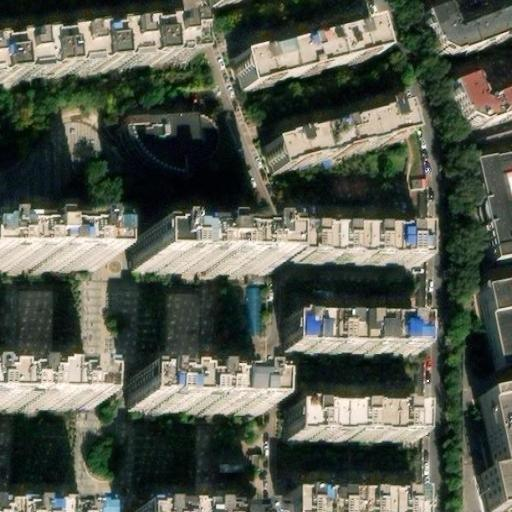building: (0, 24, 191, 82), (228, 15, 378, 88), (261, 102, 403, 172), (115, 107, 211, 180), (465, 141, 512, 255), (131, 236, 265, 273), (124, 370, 256, 407), (282, 317, 413, 353), (285, 228, 417, 261), (286, 405, 414, 439), (0, 368, 83, 405), (282, 492, 414, 512), (480, 482, 512, 511)
